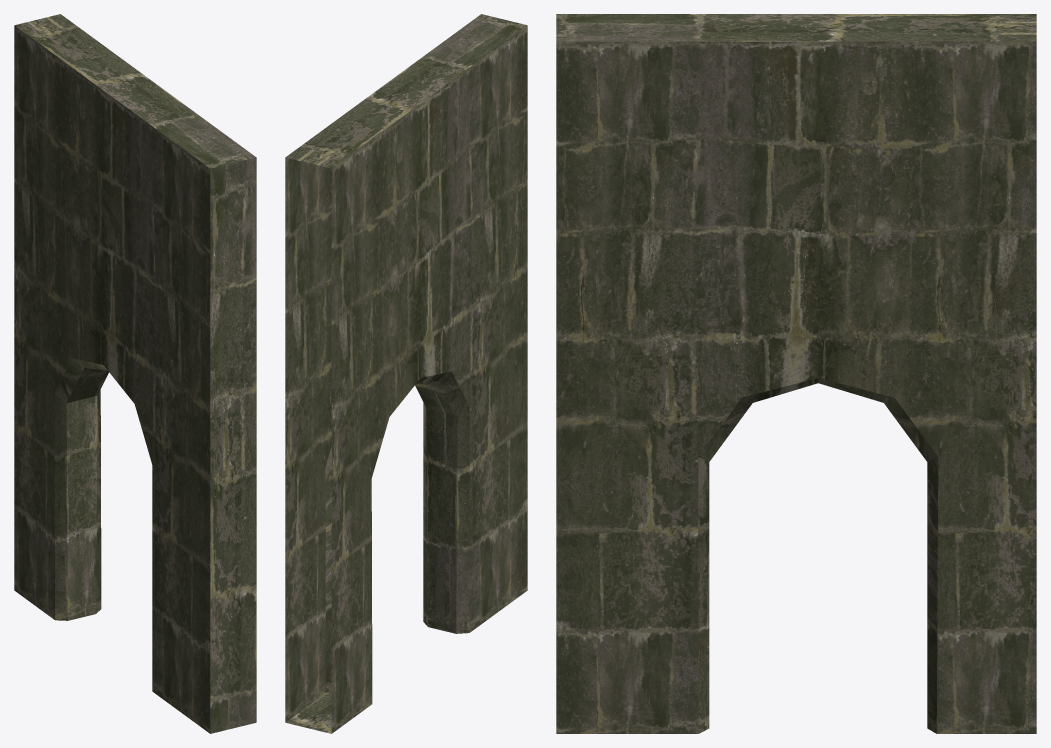
File: VerticalHalfWall_L_Doorway.fbx
3 views of the same model, side by side, from view 1: azimuth 30°, elevation 25°; view 2: azimuth 150°, elevation 25°; view 3: azimuth 270°, elevation 25° (orthographic). The views are drawn at different scales.
Parts seen in each view (by area): view 1: VerticalHalfWall_L_Doorway; view 2: VerticalHalfWall_L_Doorway; view 3: VerticalHalfWall_L_Doorway.
Boxes of the visible parts, x1,y1,x2,y2 form: VerticalHalfWall_L_Doorway: (14,14,256,733); VerticalHalfWall_L_Doorway: (285,14,527,733); VerticalHalfWall_L_Doorway: (556,14,1036,733).
Size of the model in its own units: 51 by 595 by 374.
